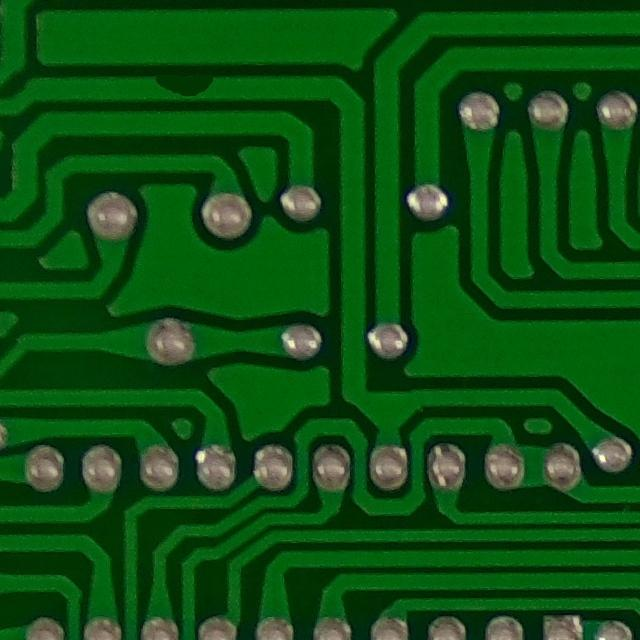mouse_bite: (144, 66, 222, 107)
